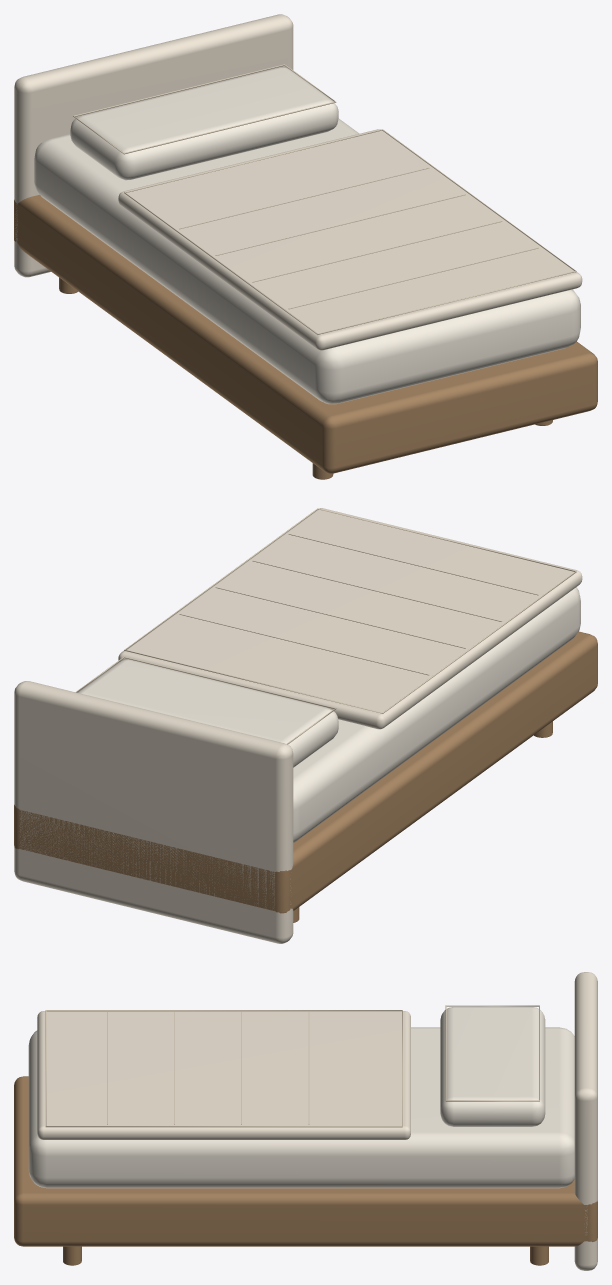
3 views of the same model, one above another, from view 1: azimuth 30°, elevation 25°; view 2: azimuth 150°, elevation 25°; view 3: azimuth 270°, elevation 25° (orthographic). The views are drawn at different scales.
Visible parts, largest first — view 1: quilt, frame, mattress, headboard, pillow_0, seam_quilt, seam_pillow_0; view 2: quilt, headboard, frame, mattress, pillow_0, seam_quilt, seam_pillow_0; view 3: quilt, mattress, frame, pillow_0, headboard, seam_quilt, seam_pillow_0.
Boxes of the visible parts, box(x1,y1,x2,y2) form: quilt: box(118, 129, 582, 350); frame: box(14, 194, 597, 473); mattress: box(34, 118, 580, 404); headboard: box(14, 14, 293, 277); pillow_0: box(70, 67, 338, 180); seam_quilt: box(124, 129, 576, 334); seam_pillow_0: box(73, 64, 336, 154); quilt: box(118, 508, 582, 729); headboard: box(14, 681, 293, 943); frame: box(14, 631, 597, 913); mattress: box(293, 587, 580, 842); pillow_0: box(77, 659, 338, 767); seam_quilt: box(124, 508, 576, 713); seam_pillow_0: box(75, 656, 336, 744); quilt: box(37, 1011, 410, 1139); mattress: box(28, 1027, 574, 1188); frame: box(14, 1076, 597, 1246); pillow_0: box(440, 1007, 545, 1126); headboard: box(574, 972, 597, 1270); seam_quilt: box(45, 1010, 402, 1127); seam_pillow_0: box(445, 1005, 539, 1101).
Size of the model in its own units: 0.8 by 0.55 by 1.6.
